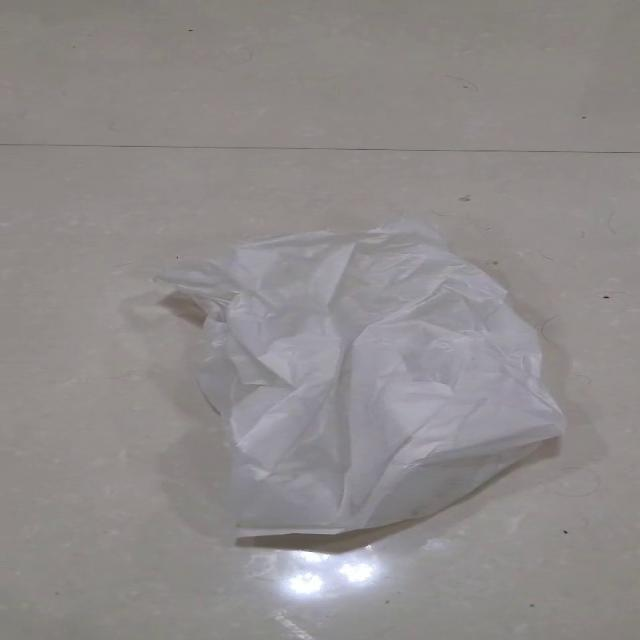plastic: (149, 215, 566, 536)
